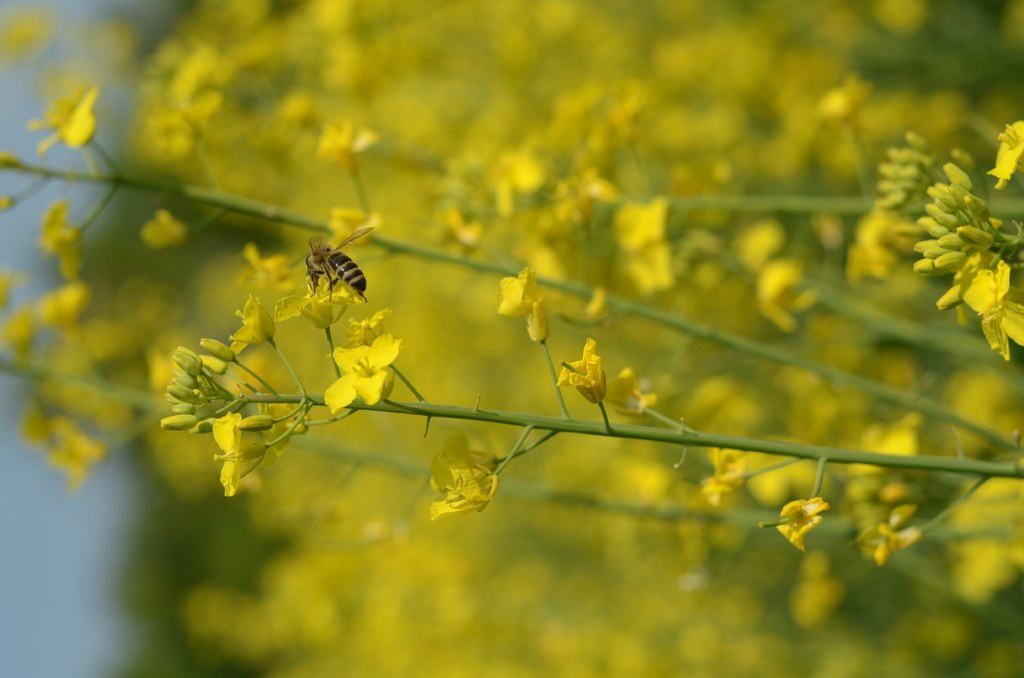bee: (291, 220, 374, 305)
insect: (0, 0, 1023, 677), (769, 496, 842, 563)
